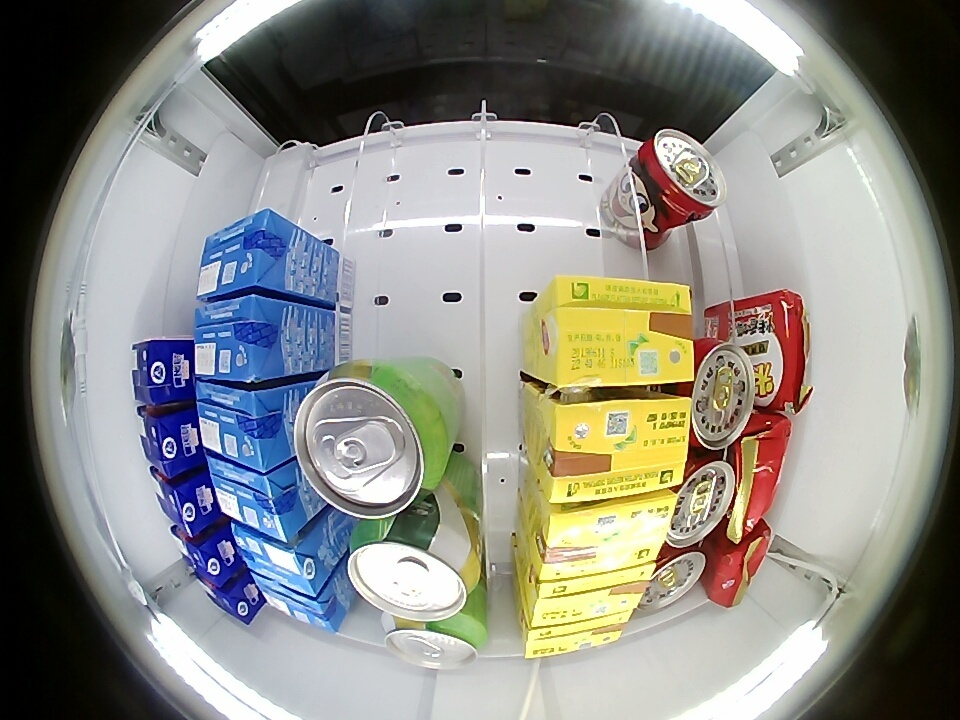bingqilinniunai: (149, 466, 217, 538), (170, 524, 241, 588), (138, 408, 201, 477), (132, 338, 194, 406), (196, 572, 264, 626)
kaomo_shaokao: (689, 292, 809, 414), (726, 413, 790, 539), (704, 521, 771, 608)
quchenshixiangcao: (294, 359, 447, 519), (348, 516, 481, 621), (384, 614, 487, 670)
wangzainiunai: (630, 129, 726, 227), (687, 340, 757, 449), (664, 452, 736, 548), (638, 540, 707, 611)
weitanai: (194, 380, 291, 474), (197, 208, 296, 299), (205, 453, 302, 544), (192, 293, 287, 383), (230, 522, 330, 598), (251, 572, 347, 633)
weitaningmeng: (538, 276, 695, 390), (534, 395, 692, 504), (528, 491, 676, 581), (523, 560, 654, 629), (520, 612, 631, 659)
